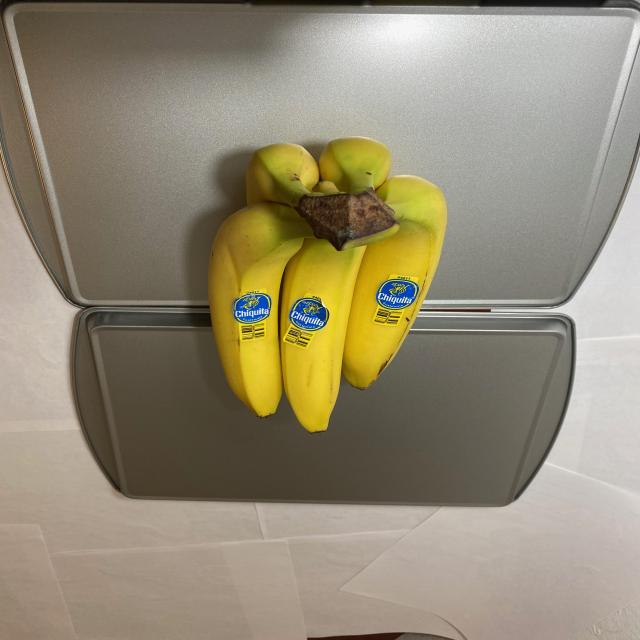banana: (210, 137, 450, 440)
